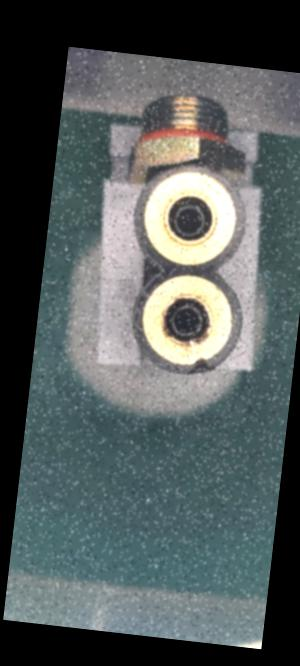bump: (183, 354, 215, 375)
